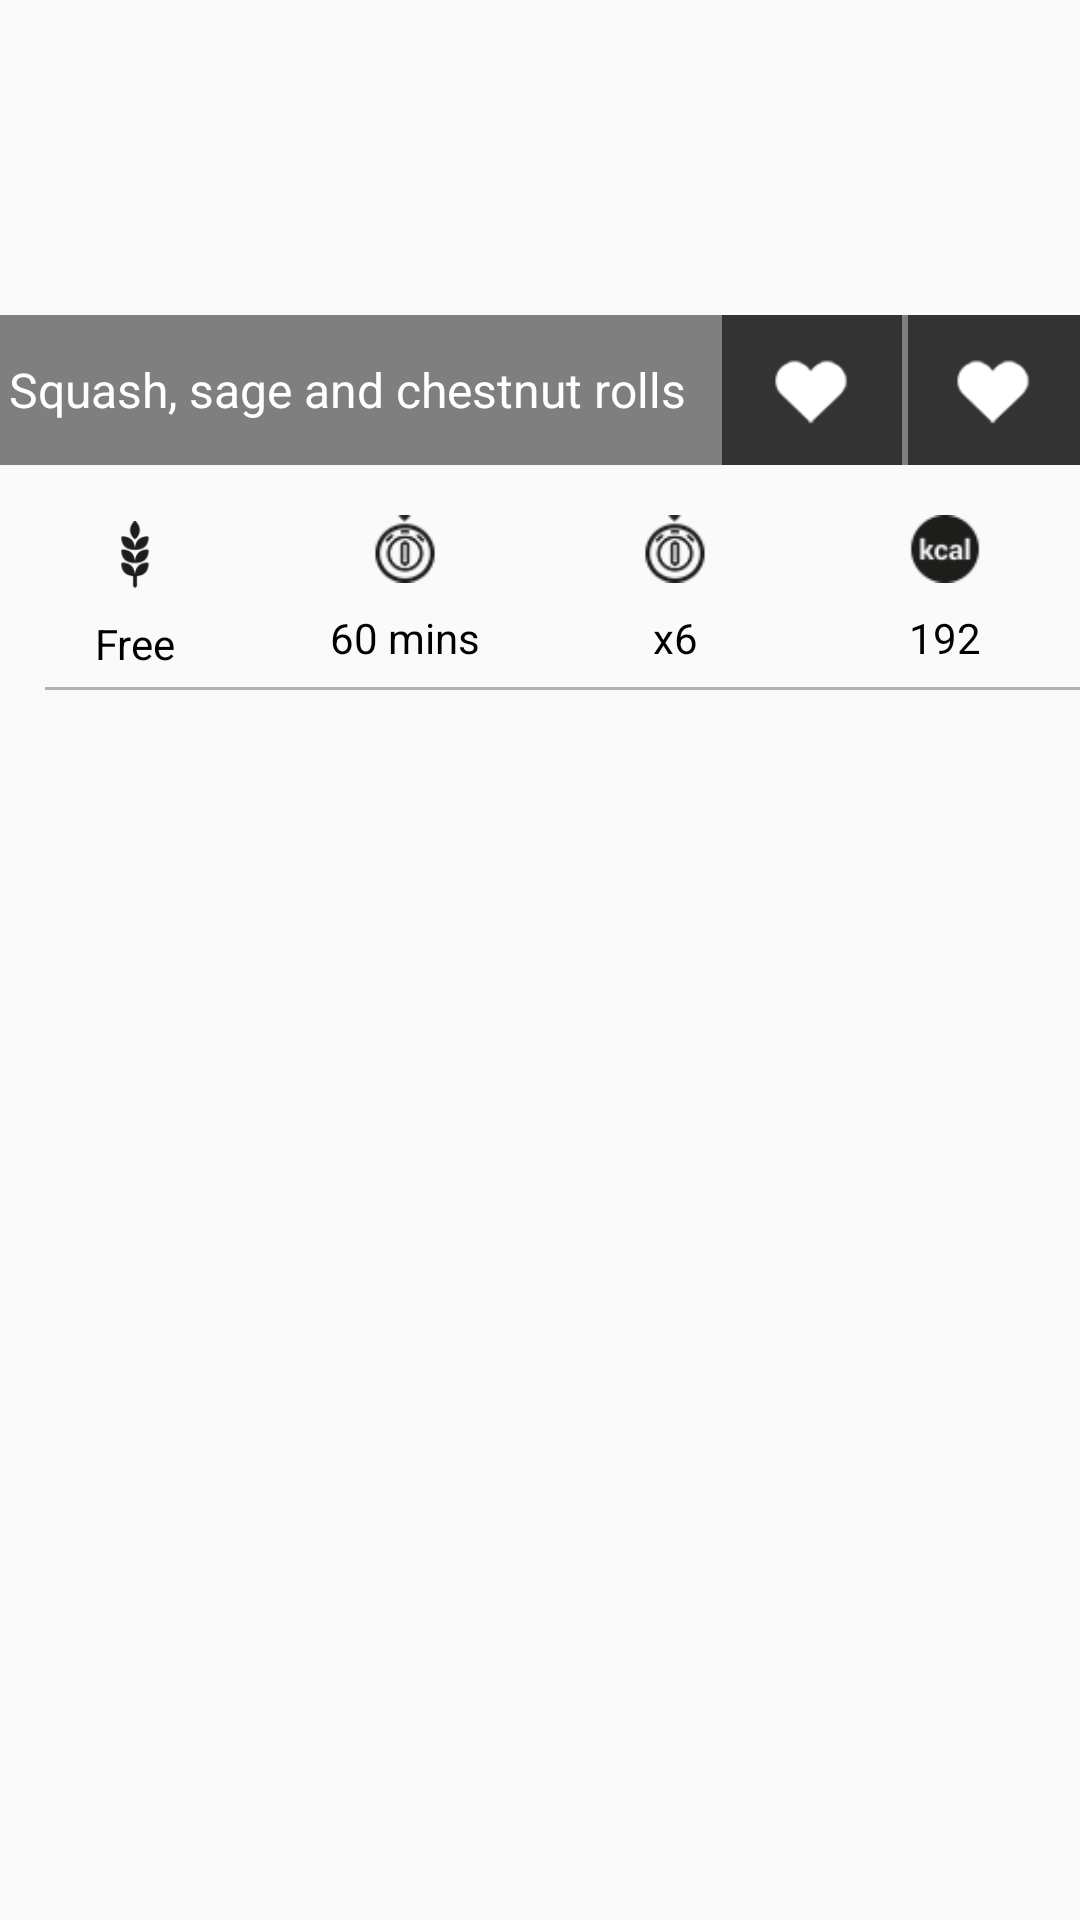

Where to tap for icons on this 1080x1920 app screen, as point (x, y):
cook: point (405, 549), point (675, 549)
fav: point (812, 390), point (994, 390)
gluten: point (135, 554)
